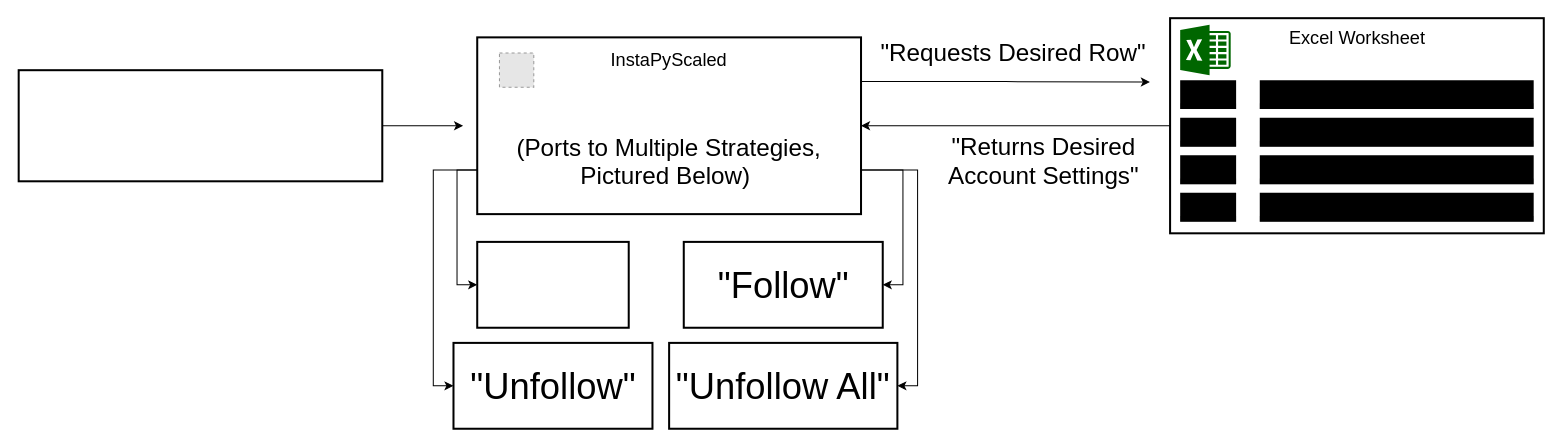
Some shapes in this 1561 by 447 pixel diagram are drawn without their labels. Grey dashed boxes stand in for pictures. The box of each missing label's shape, as (x1, y1, x2, y2) in pixels:
"Full": (476, 240, 629, 328)
User Row Input "$ python Scaled.py (Desired Row) ": (17, 69, 383, 182)
